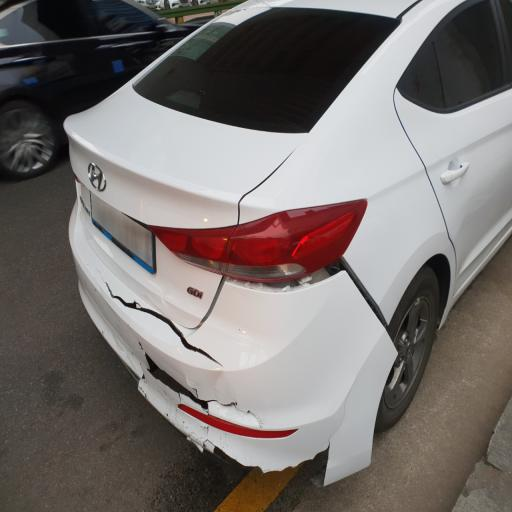broken: (90, 169, 313, 486)
